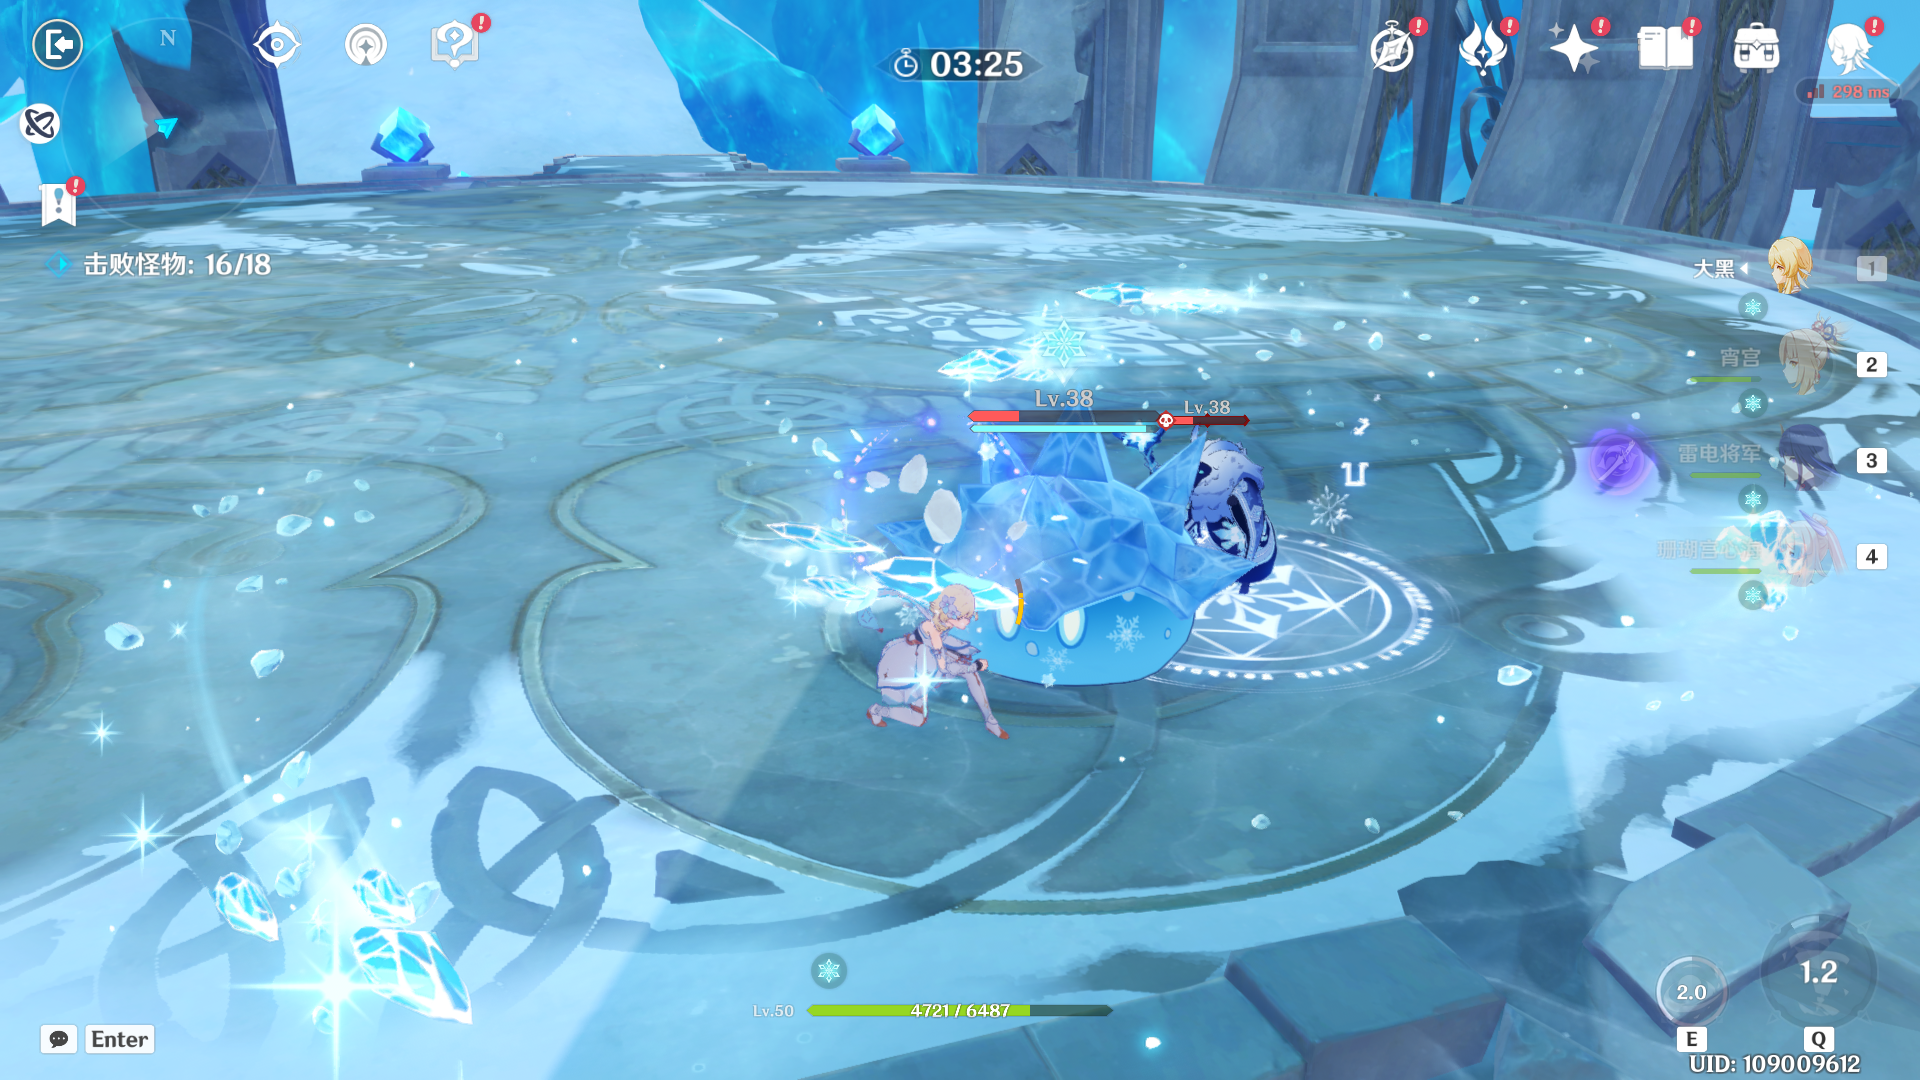caster: (1159, 404, 1323, 632)
character: (827, 562, 1040, 767)
slime: (905, 456, 1225, 698)
